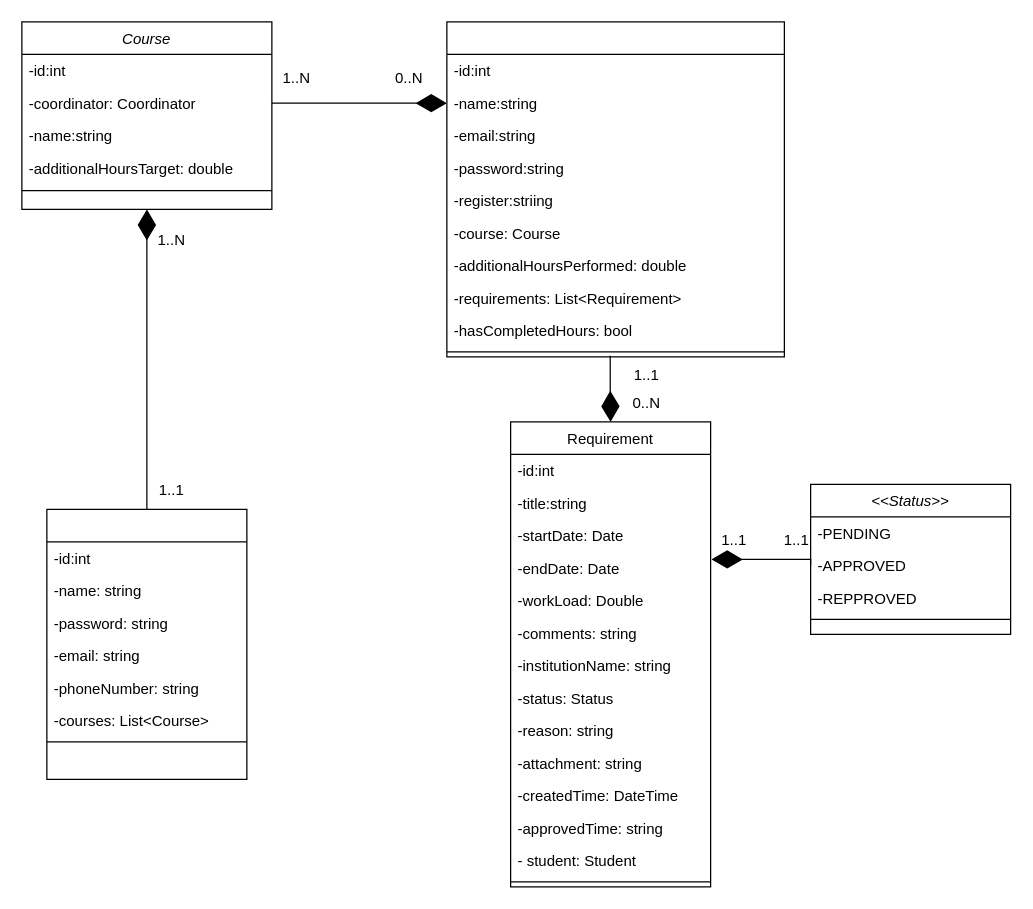
This 1033x909 diagram has some shape labels left out. Each missing label, with the box of its shape:
Coordinator: (46, 508, 247, 779)
Student: (446, 21, 784, 357)
